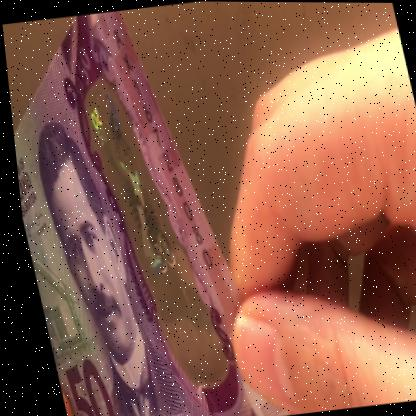50F: (83, 86, 189, 338)
